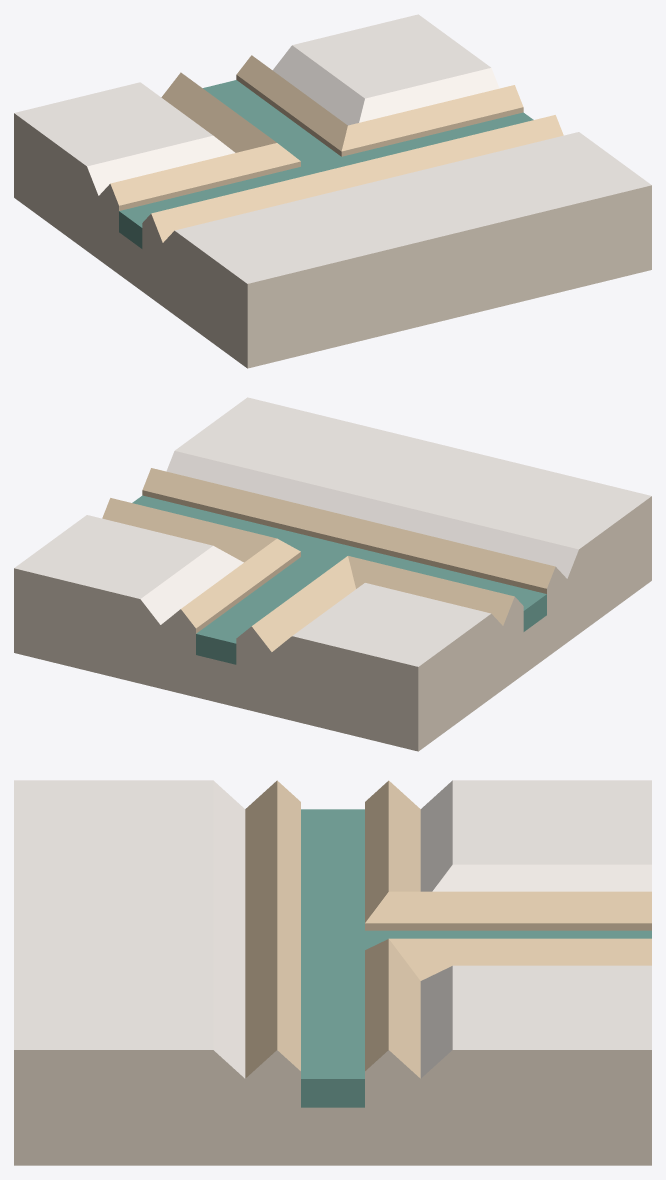
The model's file is Puzzle_Floor_Conduit_Standard_TJoint.glb.
3 views of the same model, one above another, from view 1: azimuth 30°, elevation 25°; view 2: azimuth 150°, elevation 25°; view 3: azimuth 270°, elevation 25° (orthographic). The views are drawn at different scales.
Parts seen in each view (by area): view 1: Puzzle_Floor_Conduit_Standard_TJoint; view 2: Puzzle_Floor_Conduit_Standard_TJoint; view 3: Puzzle_Floor_Conduit_Standard_TJoint.
Part boxes in pixels (<box>): Puzzle_Floor_Conduit_Standard_TJoint: <box>14,14,651,368</box>; Puzzle_Floor_Conduit_Standard_TJoint: <box>14,397,651,751</box>; Puzzle_Floor_Conduit_Standard_TJoint: <box>14,780,651,1165</box>.
Size of the model in its own units: 1 by 0.2 by 1.
